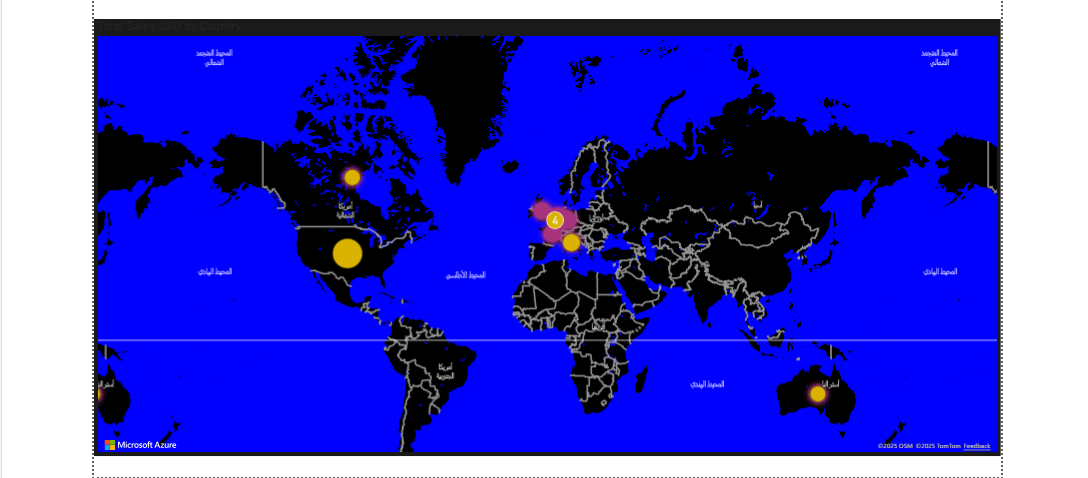

The page's visual inventory and layout, read from the dashboard file:
{"tool":"powerbi","page":{"name":"Page 2","canvas":[1280,720],"ordinal":1},"visuals":[{"type":"azureMap","fields":{"Category":["DimStore.Country"],"Value":["Measuress.Total Sales USD"],"Size":["Measuress.Total Sales USD"]},"box":[0,73.4,1280.5,616.9],"z":0}]}

Visuals, with their boxes in screenshot pixels (x1, y1, x2, y2):
azureMap - DimStore.Country x Measuress.Total Sales USD: l=91, t=18, r=993, b=453
